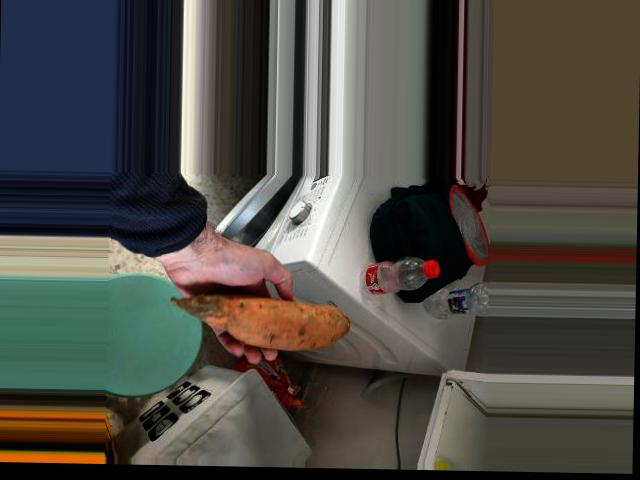sweet_potato: (196, 294, 347, 356)
